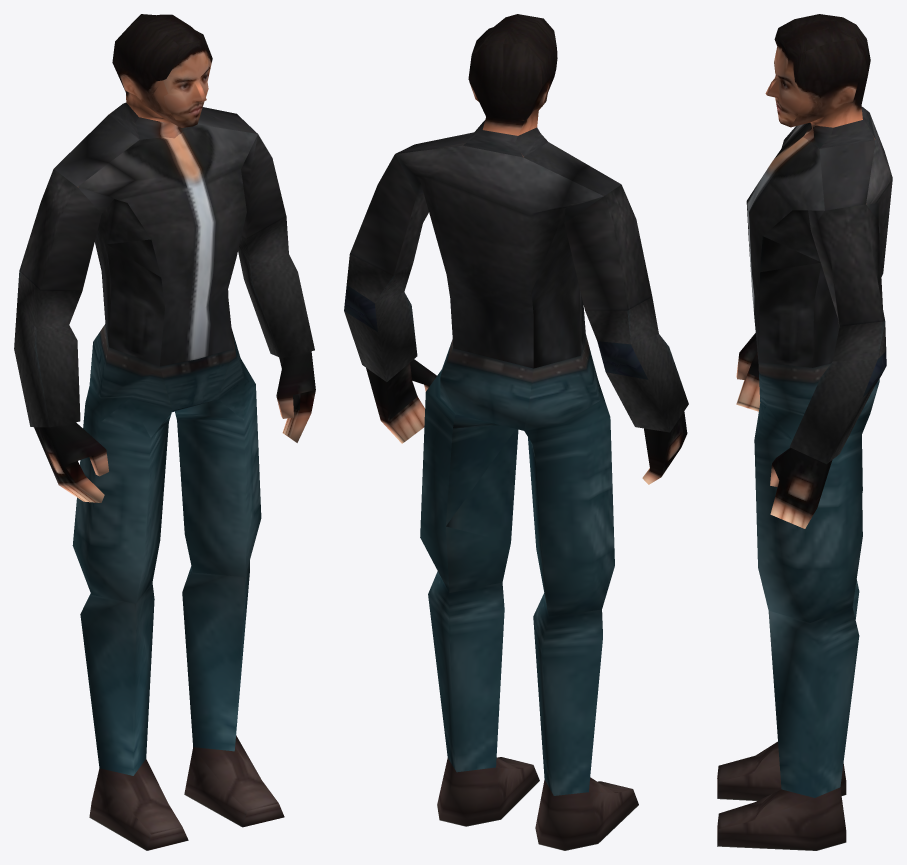
Rendered from Manuel48.obj.
3 renders of one model, left to right at view 1: azimuth 30°, elevation 25°; view 2: azimuth 150°, elevation 25°; view 3: azimuth 270°, elevation 25°, orthographic. The views are drawn at different scales.
Parts seen in each view (by area): view 1: leon; view 2: leon; view 3: leon.
Boxes of the visible parts, x1,y1,x2,y2 form: leon: (14, 14, 315, 850); leon: (344, 14, 688, 850); leon: (717, 14, 892, 850).
Size of the model in its own units: 4.71 by 12.19 by 2.45.
1 material, 1 textured.
